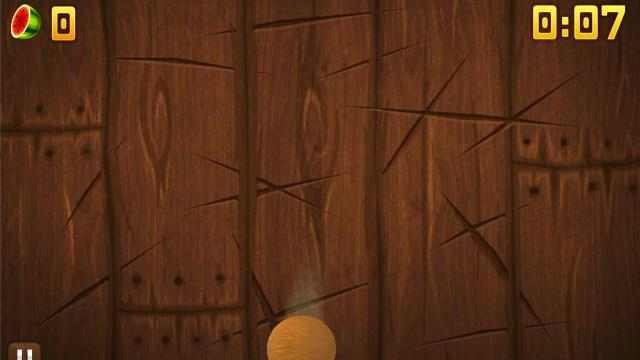fruit: (262, 310, 338, 360)
